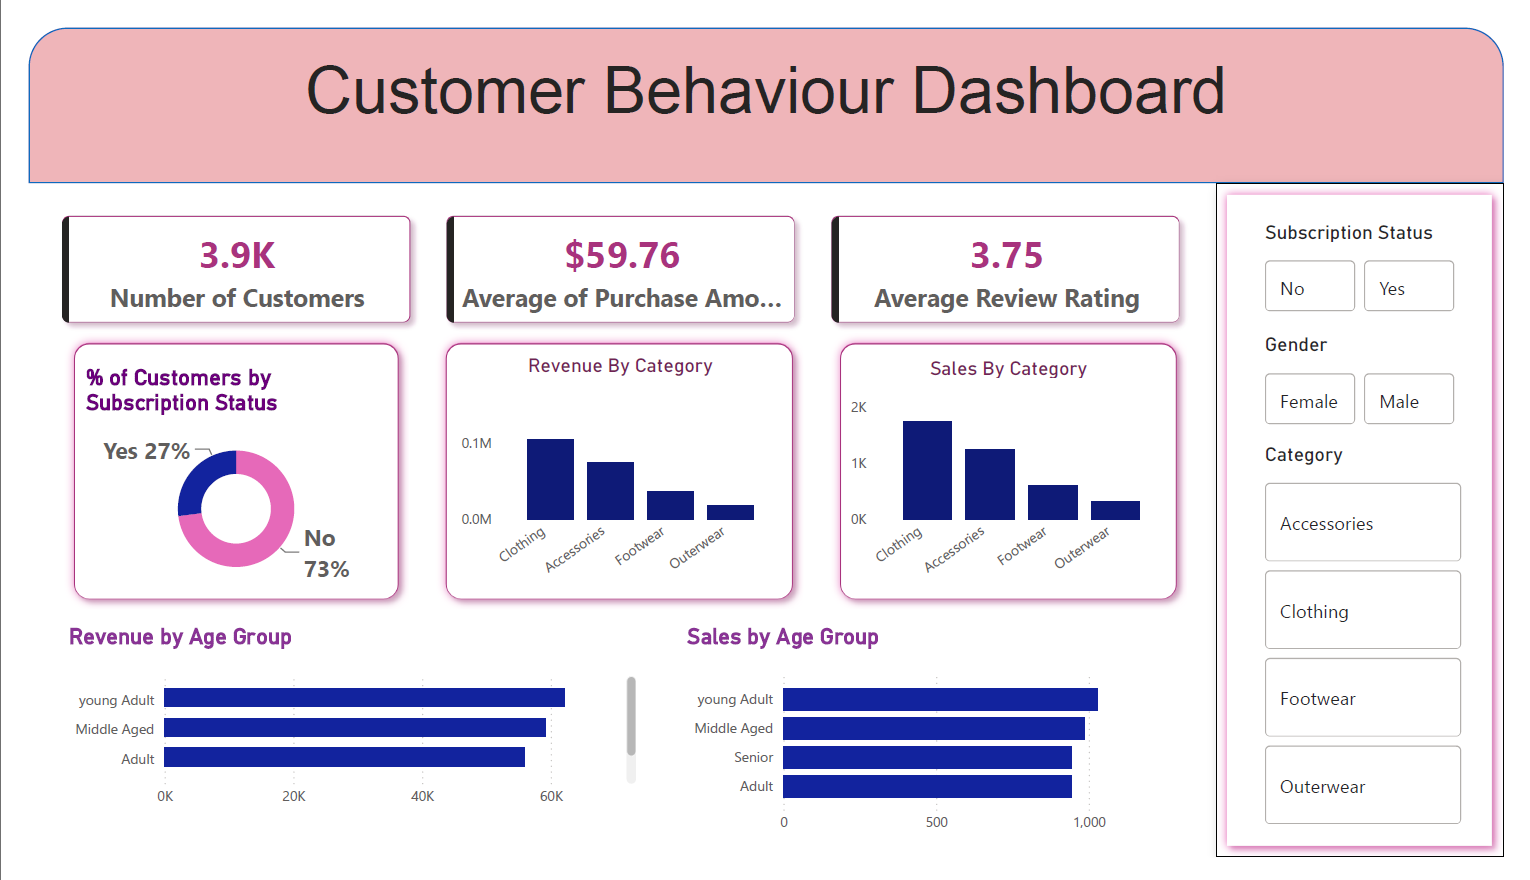

The dashboard page shown, as its layout file describes it:
{"tool":"powerbi","page":{"name":"Page 1","canvas":[1280,720],"ordinal":0},"visuals":[{"type":"cardVisual","fields":{"Data":["public customer.Number of Customers","public customer.Average of Purchase Amount","public customer.Average Review Rating"]},"box":[0,135,1030,150],"z":0},{"type":"shape","box":[0,0,1280.3,134.8],"z":1000},{"type":"textbox","box":[0,16.7,1280.3,118.2],"z":2000},{"type":"shape","box":[30,265,300,240],"z":3000},{"type":"shape","box":[353.3,265,318.3,240],"z":4000},{"type":"shape","box":[695,265,310,240],"z":5000},{"type":"clusteredColumnChart","title":"Revenue By Category","fields":{"Y":["Sum(public customer.purchase_amount)"],"Category":["public customer.category"]},"box":[370,283.3,286.7,203.3],"z":6000},{"type":"clusteredColumnChart","title":"Sales By Category","fields":{"Category":["public customer.category"],"Y":["CountNonNull(public customer.customer_id)"]},"box":[708.3,285,285,201.7],"z":7000},{"type":"donutChart","title":"% of Customers by Subscription Status","fields":{"Category":["public customer.subscription_status"],"Y":["CountNonNull(public customer.customer_id)"]},"box":[45,291.7,270,196.7],"z":8000},{"type":"shape","box":[1030,135,250,585],"z":9000},{"type":"advancedSlicerVisual","fields":{"Values":["public customer.subscription_status"]},"box":[1068.3,166.7,173.9,85.2],"z":10000},{"type":"advancedSlicerVisual","fields":{"Values":["public customer.gender"]},"box":[1068.3,265,173.9,85.2],"z":11000},{"type":"advancedSlicerVisual","fields":{"Values":["public customer.category"]},"box":[1068.3,360,180,336.7],"z":12000},{"type":"clusteredBarChart","title":"Sales by Age Group","fields":{"Y":["CountNonNull(public customer.customer_id)"],"Category":["public customer.age_group"]},"box":[566.7,516.7,426.7,191.7],"z":13000},{"type":"clusteredBarChart","title":"Revenue by Age Group","fields":{"Y":["Sum(public customer.purchase_amount)"],"Category":["public customer.age_group"]},"box":[30,516.7,501.7,168.3],"z":14000}]}

Visuals, with their boxes in screenshot pixels (x1, y1, x2, y2), scaled from the page's 1280x720 canvas onto the 1530x880 screenshot:
cardVisual - public customer.Number of Customers x public customer.Average of Purchase Amount: x1=0 y1=165 x2=1231 y2=348
shape: x1=0 y1=0 x2=1529 y2=165
textbox: x1=0 y1=20 x2=1529 y2=165
shape: x1=36 y1=324 x2=394 y2=617
shape: x1=422 y1=324 x2=803 y2=617
shape: x1=831 y1=324 x2=1201 y2=617
"Revenue By Category" clusteredColumnChart: x1=442 y1=346 x2=785 y2=595
"Sales By Category" clusteredColumnChart: x1=847 y1=348 x2=1187 y2=595
"% of Customers by Subscription Status" donutChart: x1=54 y1=357 x2=377 y2=597
shape: x1=1231 y1=165 x2=1529 y2=879
advancedSlicerVisual - public customer.subscription_status: x1=1277 y1=204 x2=1485 y2=308
advancedSlicerVisual - public customer.gender: x1=1277 y1=324 x2=1485 y2=428
advancedSlicerVisual - public customer.category: x1=1277 y1=440 x2=1492 y2=852
"Sales by Age Group" clusteredBarChart: x1=677 y1=632 x2=1187 y2=866
"Revenue by Age Group" clusteredBarChart: x1=36 y1=632 x2=636 y2=837
